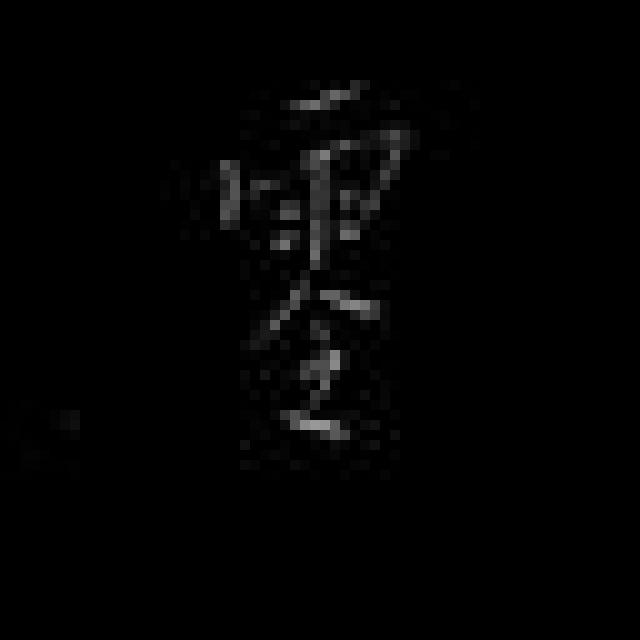0 -zero-: (200, 61, 424, 473)
